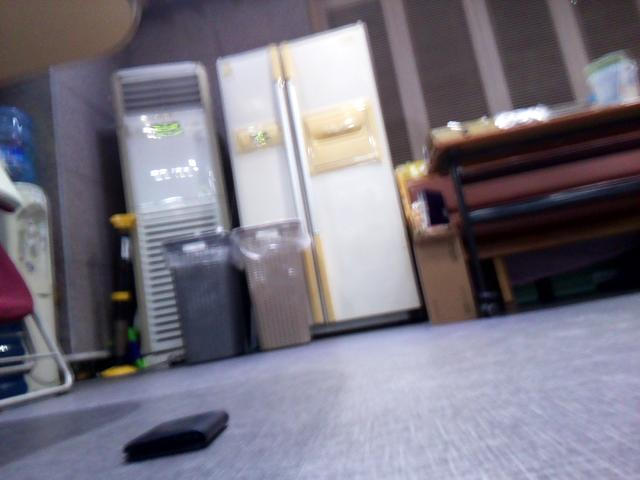wallet: (115, 409, 242, 463)
